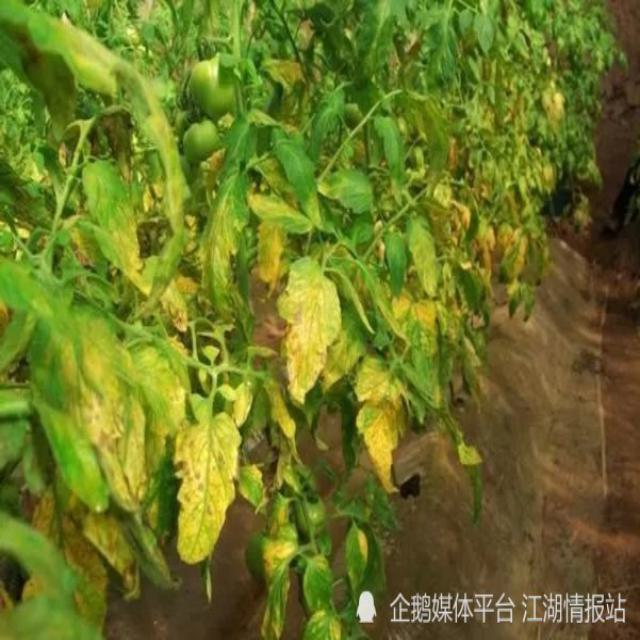Leaf_Mold: (54, 332, 184, 530), (422, 185, 550, 323), (19, 490, 143, 632), (108, 217, 200, 330), (175, 419, 239, 567), (282, 258, 339, 403), (354, 352, 407, 493), (201, 188, 245, 322), (256, 384, 304, 492), (413, 295, 462, 381), (249, 185, 311, 235), (258, 536, 288, 639), (320, 326, 364, 393), (255, 219, 280, 301), (537, 78, 568, 131), (266, 56, 307, 92), (353, 529, 372, 562), (390, 288, 409, 320), (322, 613, 342, 640)
